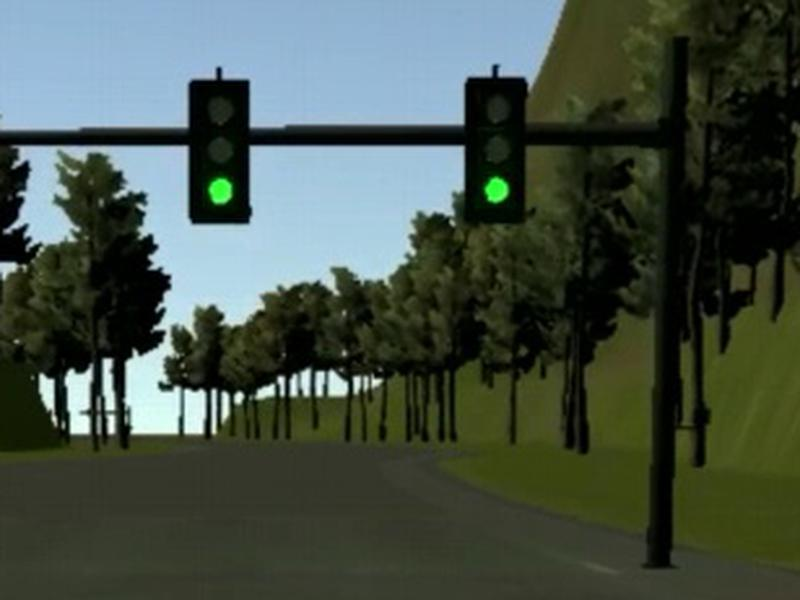Green: (464, 76, 528, 223), (189, 78, 252, 224)
